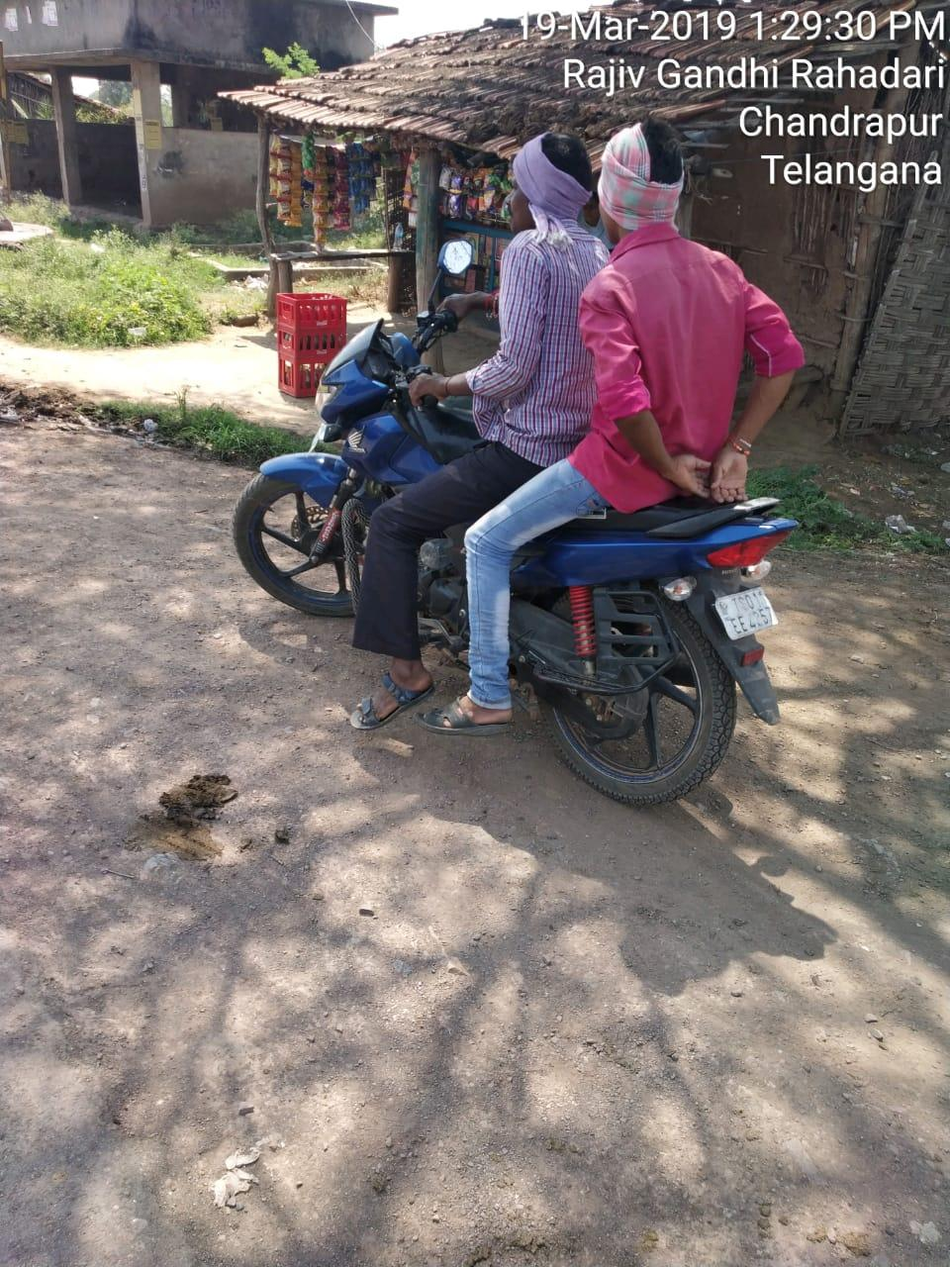plate: (707, 585, 785, 641)
